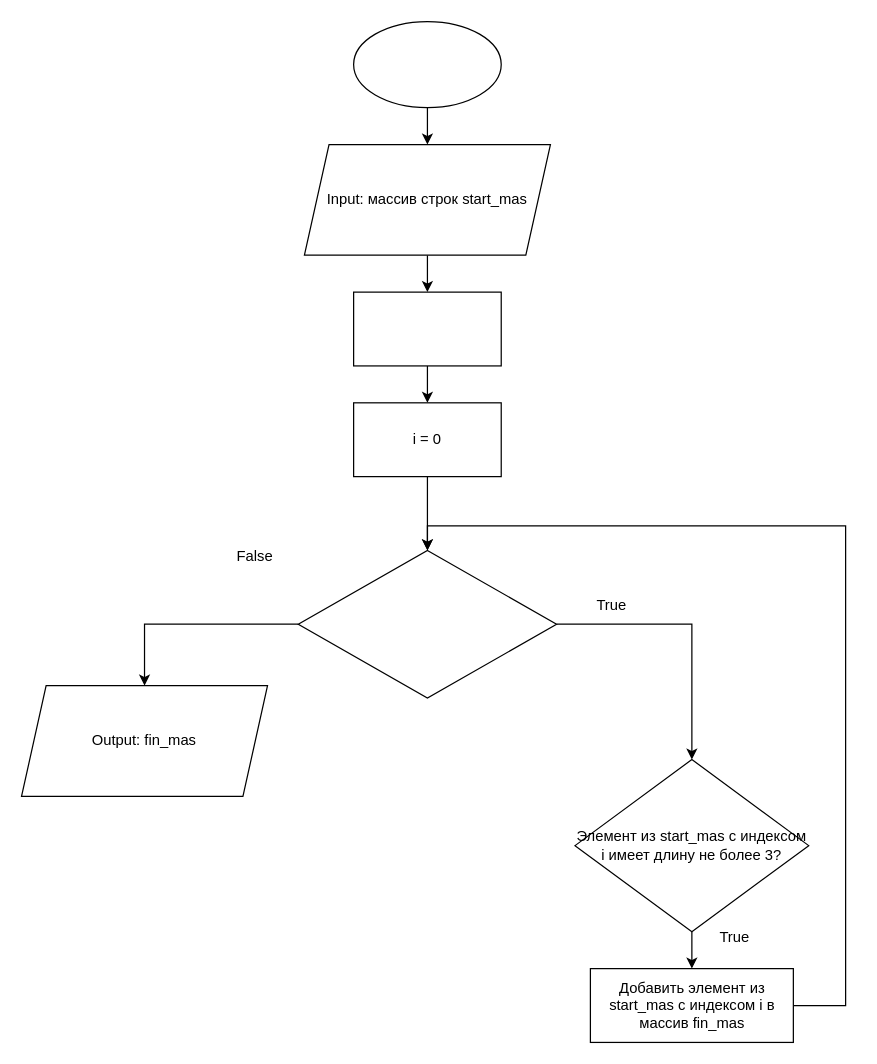
Some shapes in this 877 by 1064 pixel diagram are drawn without their labels. Here are the shapes that lost their labels. From the top down, the centre of each, then its label:
the point at 426,64: begin
the point at 426,328: Создание нового массива fin_mas = []
the point at 427,623: i < len(start_mas) ?
